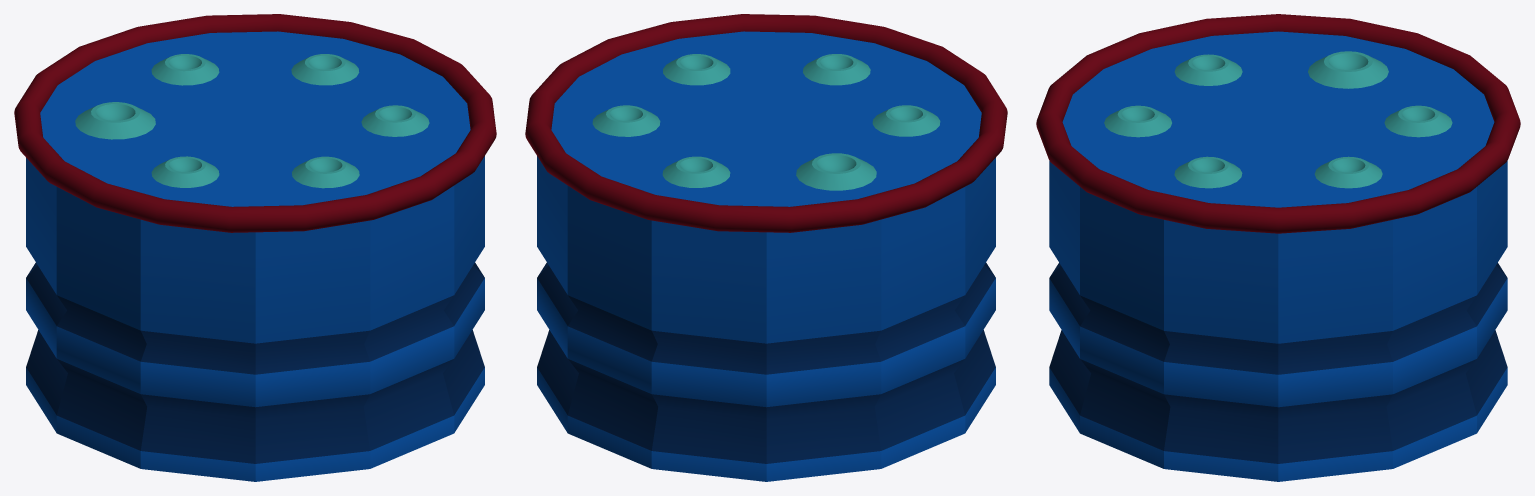
The model's file is pokeball_machine.fbx.
3 views of the same model, side by side, from view 1: azimuth 30°, elevation 25°; view 2: azimuth 150°, elevation 25°; view 3: azimuth 270°, elevation 25° (orthographic).
Visible parts, largest first — view 1: pCylinder1, pTorus1, pasted__pasted__pCylinder7, pasted__pasted__pCylinder5, pasted__pCylinder3, pasted__pasted__pCylinder3, pasted__pasted__pCylinder6, pasted__pasted__pCylinder4; view 2: pCylinder1, pTorus1, pasted__pasted__pCylinder7, pasted__pasted__pCylinder3, pasted__pCylinder3, pasted__pasted__pCylinder4, pasted__pasted__pCylinder5, pasted__pasted__pCylinder6; view 3: pCylinder1, pTorus1, pasted__pasted__pCylinder7, pasted__pasted__pCylinder4, pasted__pasted__pCylinder6, pasted__pCylinder3, pasted__pasted__pCylinder5, pasted__pasted__pCylinder3.
Boxes of the visible parts, box(x1,y1,x2,y2) form: pCylinder1: box(26, 31, 484, 481); pTorus1: box(14, 14, 496, 232); pasted__pasted__pCylinder7: box(75, 102, 155, 139); pasted__pasted__pCylinder5: box(291, 54, 359, 85); pasted__pCylinder3: box(292, 156, 359, 188); pasted__pasted__pCylinder3: box(361, 105, 429, 136); pasted__pasted__pCylinder6: box(151, 156, 219, 187); pasted__pasted__pCylinder4: box(151, 54, 219, 85); pCylinder1: box(537, 31, 995, 481); pTorus1: box(525, 14, 1007, 232); pasted__pasted__pCylinder7: box(796, 153, 876, 190); pasted__pasted__pCylinder3: box(663, 54, 730, 85); pasted__pCylinder3: box(803, 54, 870, 85); pasted__pasted__pCylinder4: box(662, 156, 730, 187); pasted__pasted__pCylinder5: box(592, 105, 660, 136); pasted__pasted__pCylinder6: box(872, 105, 940, 136); pCylinder1: box(1049, 31, 1507, 481); pTorus1: box(1036, 14, 1520, 233); pasted__pasted__pCylinder7: box(1308, 51, 1388, 88); pasted__pasted__pCylinder4: box(1384, 105, 1452, 137); pasted__pasted__pCylinder6: box(1174, 54, 1242, 85); pasted__pCylinder3: box(1104, 105, 1171, 137); pasted__pasted__pCylinder5: box(1314, 156, 1382, 188); pasted__pasted__pCylinder3: box(1174, 156, 1242, 188).
Bounding box in the file's own units: 1.48 × 0.9206 × 1.48.
